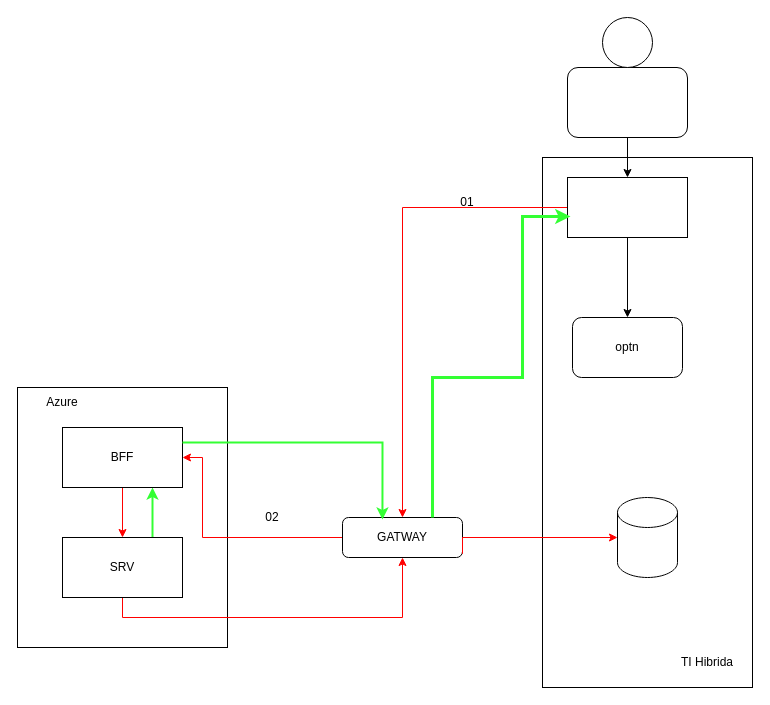
This 770x705 diagram has some shape labels left out. The box of each missing label's shape, as (x1, y1, x2, y2) in pixels:
Fed: (566, 176, 688, 238)
MOngo: (616, 496, 678, 578)
